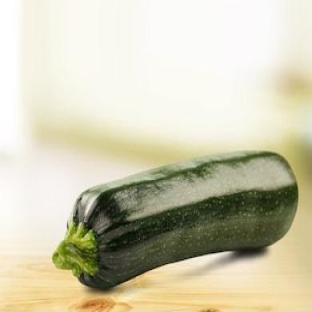Zucchini: (53, 152, 297, 289)
